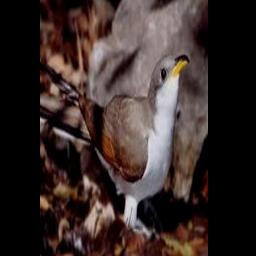Cuckoo: (40, 54, 190, 232)
